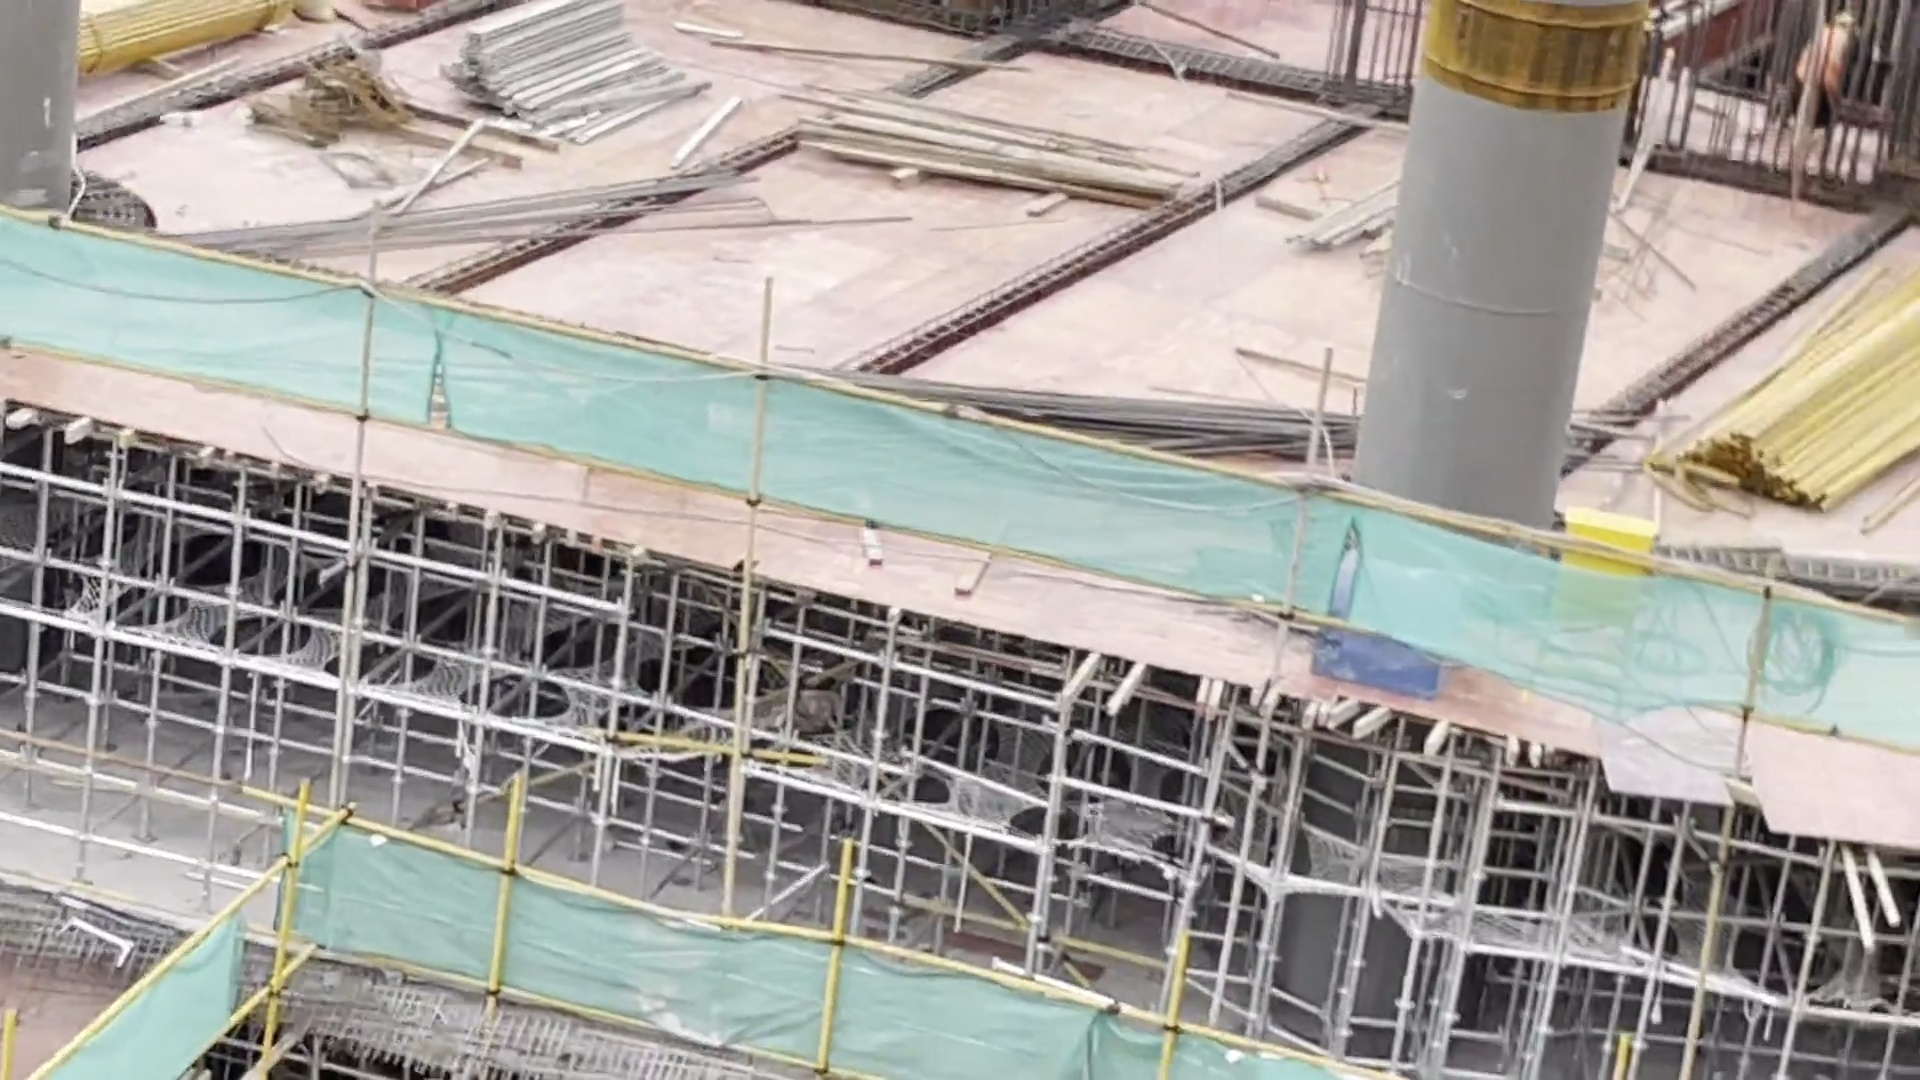ebox: (1548, 506, 1658, 703)
wood: (781, 74, 1209, 214)
